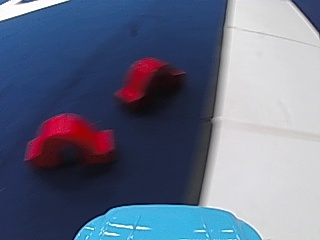bridge: (20, 108, 108, 170), (110, 54, 184, 112)
